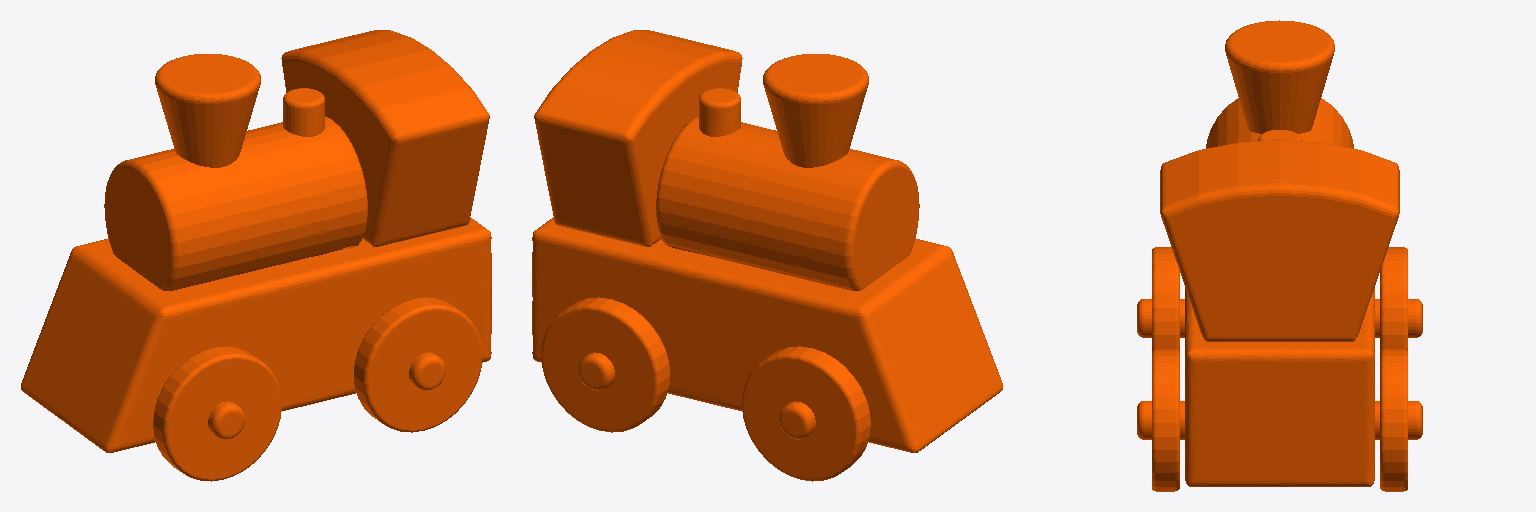
robot.urdf — train:
<?xml version="1.0" ?>
<robot name="train">
   <material name="obj_color">
      <color rgba="1.0 0.423529411765 0.0392156862745 1.0"/>
   </material>
   <link name="top">
      <inertial>
         <origin rpy="0.0002016120293443172 0.000336312737407071 0.0004098815632967426" xyz="0.006478074666594637 -4.628400191497215e-09 -0.006512734167248516"/>
         <mass value="0.4055621209695732"/>
         <inertia ixx="0.0002148926946276441" ixy="-4.752533291208028e-10" ixz="-4.015643095192554e-05" iyy="0.0004098815632937033" iyz="2.865740908389817e-10" izz="0.0003230320721267834"/>
      </inertial>
      <visual>
         <origin rpy="0 0 0" xyz="0 0 0"/>
         <geometry>
            <mesh filename="top_watertight_tiny.stl" scale="1 1 1"/>
         </geometry>
         <material name="obj_color"/>
      </visual>
      <collision>
         <origin rpy="0 0 0" xyz="0 0 0"/>
         <geometry>
            <mesh filename="top_watertight_tiny.obj" scale="1 1 1"/>
         </geometry>
      </collision>
   </link>
   <link name="bottom">
      <inertial>
         <origin rpy="1.633333333194242e-08 1.633333333194243e-08 1.633333333357667e-08" xyz="0.3464080000000008 0.3464080000000008 0.3464080000000008"/>
         <mass value="0.0009800000000000017"/>
         <inertia ixx="1.633333333248717e-08" ixy="5.447480642029219e-19" ixz="5.447480642029219e-19" iyy="1.633333333248717e-08" iyz="5.447480642029219e-19" izz="1.633333333248717e-08"/>
      </inertial>
      <visual>
         <origin rpy="0 0 0" xyz="0 0 0"/>
         <geometry>
            <mesh filename="bottom_watertight_tiny.stl" scale="1 1 1"/>
         </geometry>
         <material name="obj_color"/>
      </visual>
   </link>
   <link name="world"/>
   <joint name="world_to_base" type="fixed">
      <origin xyz="0 0 0"/>
      <axis xyz="0 0 0"/>
      <parent link="world"/>
      <child link="bottom"/>
   </joint>
   <joint name="rotation" type="revolute">
      <origin xyz="0 0 0"/>
      <axis xyz="0 0 -1"/>
      <parent link="bottom"/>
      <child link="top"/>
      <dynamics damping="1.0" friction="1.0"/>
      <limit effort="0.1" velocity="0.1" lower="0" upper="0.001"/>
   </joint>
</robot>

--- Render facts (derived) ---
The picture shows the robot from 3 angles, left to right: view 1: azimuth 30°, elevation 25°; view 2: azimuth 150°, elevation 25°; view 3: azimuth 270°, elevation 25°; orthographic projection.
Model train with 3 links and 2 joints (1 revolute, 1 fixed), rooted at world, posed every joint at zero.
Visible links, largest first — view 1: top; view 2: top; view 3: top.
Boxes of the visible links, <box> form: top: <box>21,30,491,481</box>; top: <box>532,30,1002,481</box>; top: <box>1137,20,1422,491</box>.
Bounding box of the posed robot: 0.097 × 0.0598 × 0.0842 m (x, y, z).
1 mesh visuals loaded from 2 distinct referenced files (1 binary STL); not drawn: 1 (reference not matched to a file when rendering).
